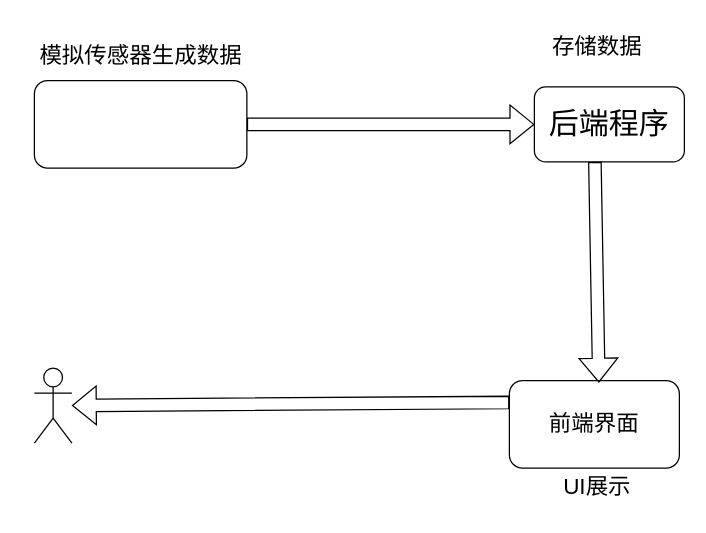
This 706x533 diagram has some shape labels left out. Here are the shapes that lost their labels. From the top down, the centre of each, then its label:
At point 140,123: "定时器".
At point 52,405: "用户".
